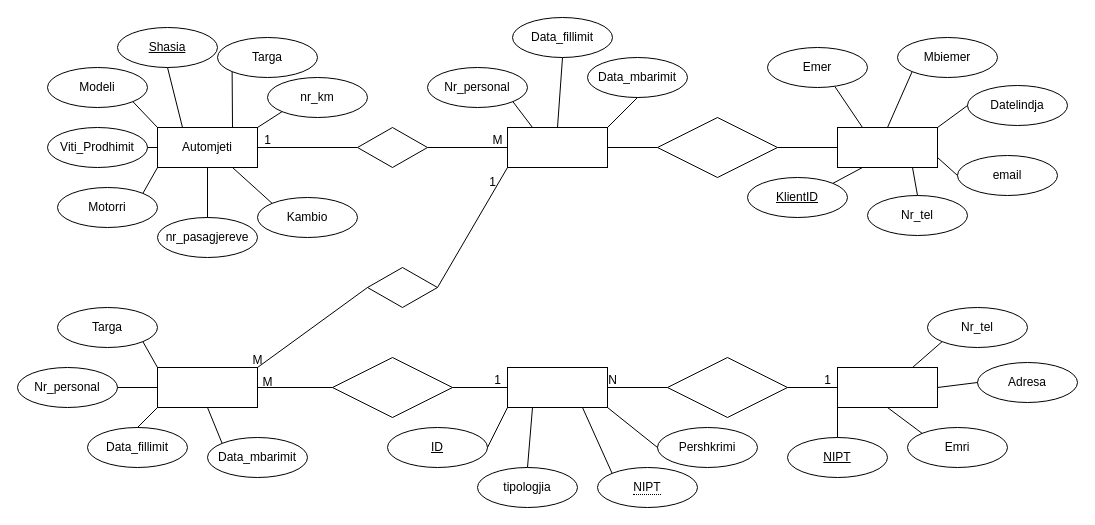
Image size: 1095x525. Some labels were removed from this diagram. The shapes that lost their labels are listed below. From the top down, each one's centre as x and y in pixels, then its label:
At [392,147]: "ka".
At [557,147]: "Pronesi".
At [887,147]: "Klienti".
At [207,387]: "Kontrata".
At [557,387]: "Siguracioni".
At [887,387]: "Kompania".
